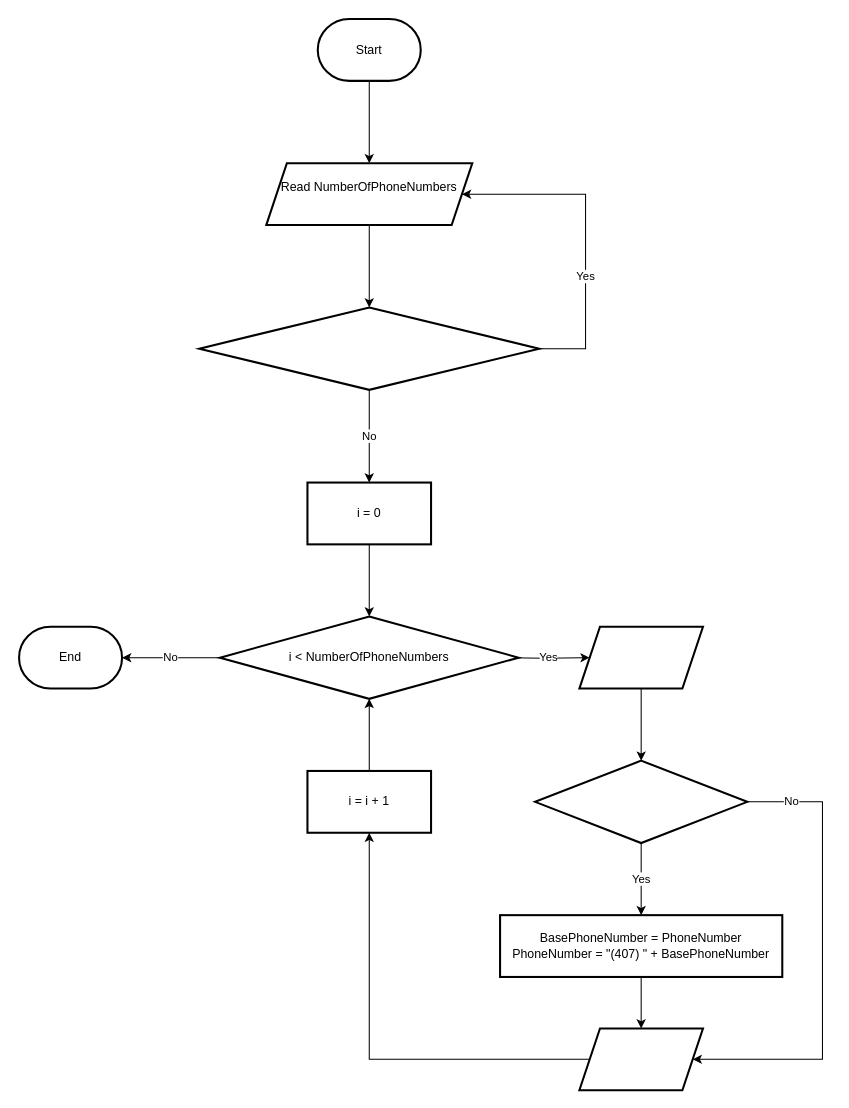
The diagram is 849 pixels wide and 1108 high, and some of its shapes have lost their labels. Here are the shapes that lost their labels. From the top down, the centre of each, then its label:
At pixel 369 348: "NumberOfPhoneNumbers < 1".
At pixel 640 657: "Read PhoneNumber".
At pixel 641 801: "PhoneNumber's first digit <> 4".
At pixel 640 1059: "Display PhoneNumber".
